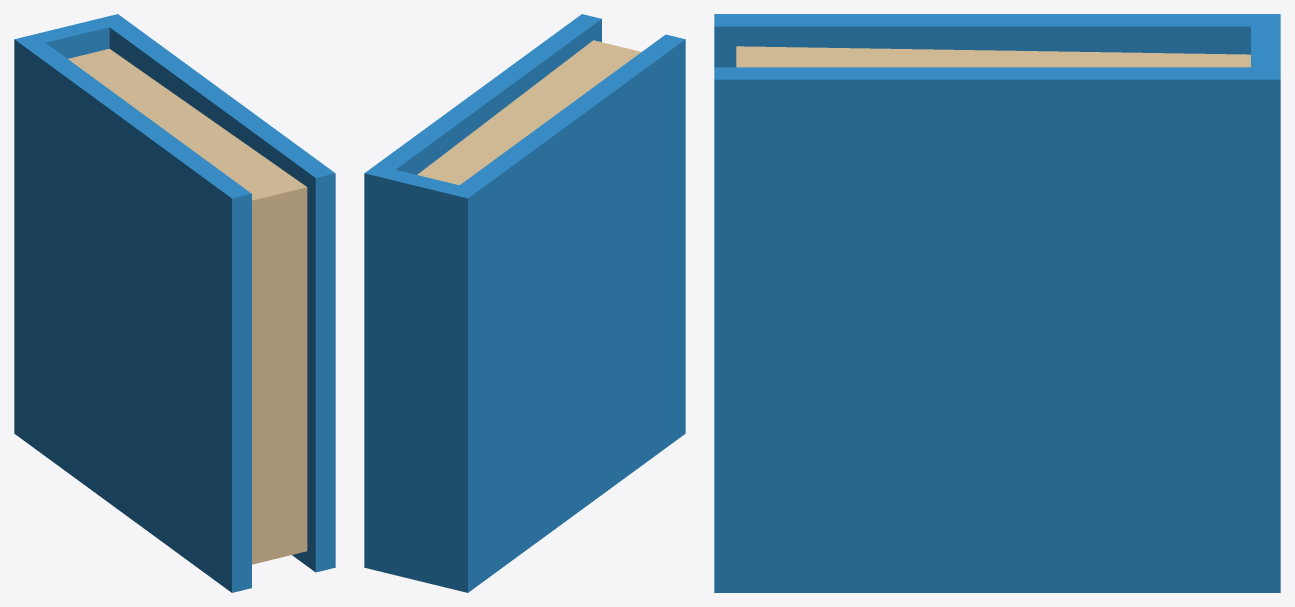
File: Book.fbx
3 renders of one model, left to right at view 1: azimuth 30°, elevation 25°; view 2: azimuth 150°, elevation 25°; view 3: azimuth 270°, elevation 25°, orthographic. The views are drawn at different scales.
Parts seen in each view (by area): view 1: Book; view 2: Book; view 3: Book.
Boxes of the visible parts, x1=… form: Book: x1=14, y1=14, x2=335, y2=592; Book: x1=364, y1=14, x2=685, y2=592; Book: x1=714, y1=14, x2=1280, y2=592.
Size of the model in its own units: 0.0235 by 0.0855 by 0.0855.
